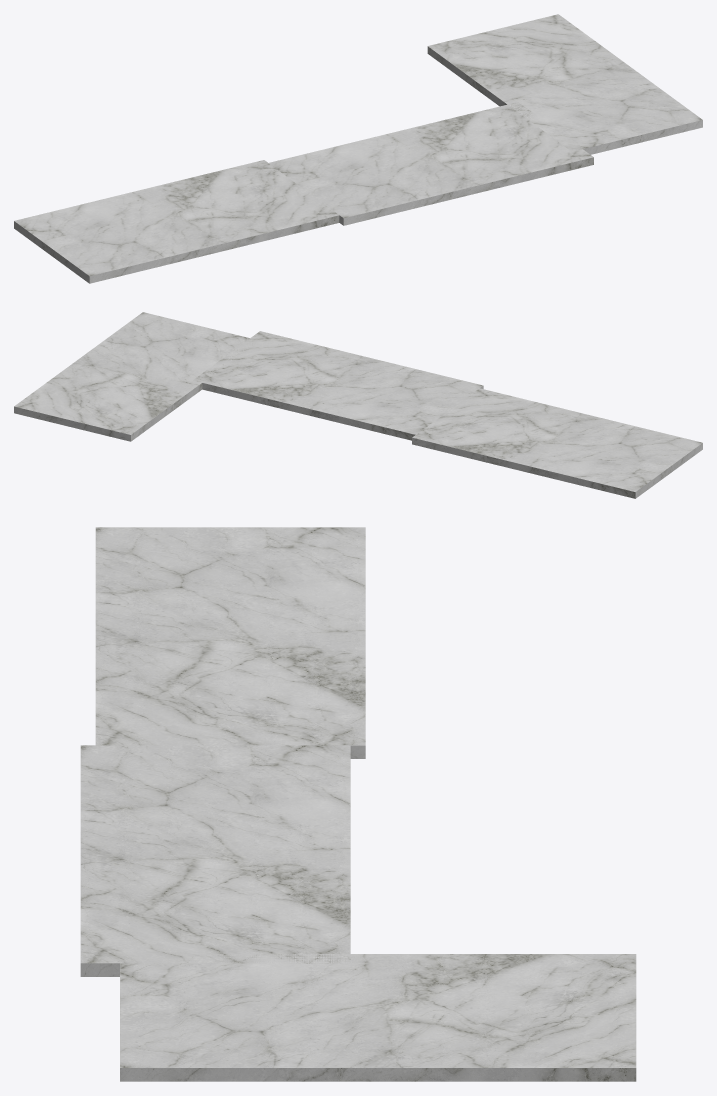
File: corridor_floor_02.fbx
The picture shows the model from 3 angles, top to bottom: view 1: azimuth 30°, elevation 25°; view 2: azimuth 150°, elevation 25°; view 3: azimuth 270°, elevation 25°; orthographic projection. The views are drawn at different scales.
Parts seen in each view (by area): view 1: CorridorFloor10, CorridorFloor4, CorridorFloor12; view 2: CorridorFloor10, CorridorFloor4, CorridorFloor12; view 3: CorridorFloor12, CorridorFloor4, CorridorFloor10.
Boxes of the visible parts, x1,y1,x2,y2 form: CorridorFloor10: (14, 160, 339, 283); CorridorFloor4: (268, 102, 593, 225); CorridorFloor12: (427, 14, 702, 154); CorridorFloor10: (412, 388, 702, 498); CorridorFloor4: (193, 331, 483, 440); CorridorFloor12: (14, 312, 259, 441); CorridorFloor12: (120, 954, 636, 1081); CorridorFloor4: (80, 745, 350, 976); CorridorFloor10: (95, 527, 365, 758).
Size of the model in its own units: 3160 by 36.93 by 1372.
Materials: 1 (1 with a texture image).
